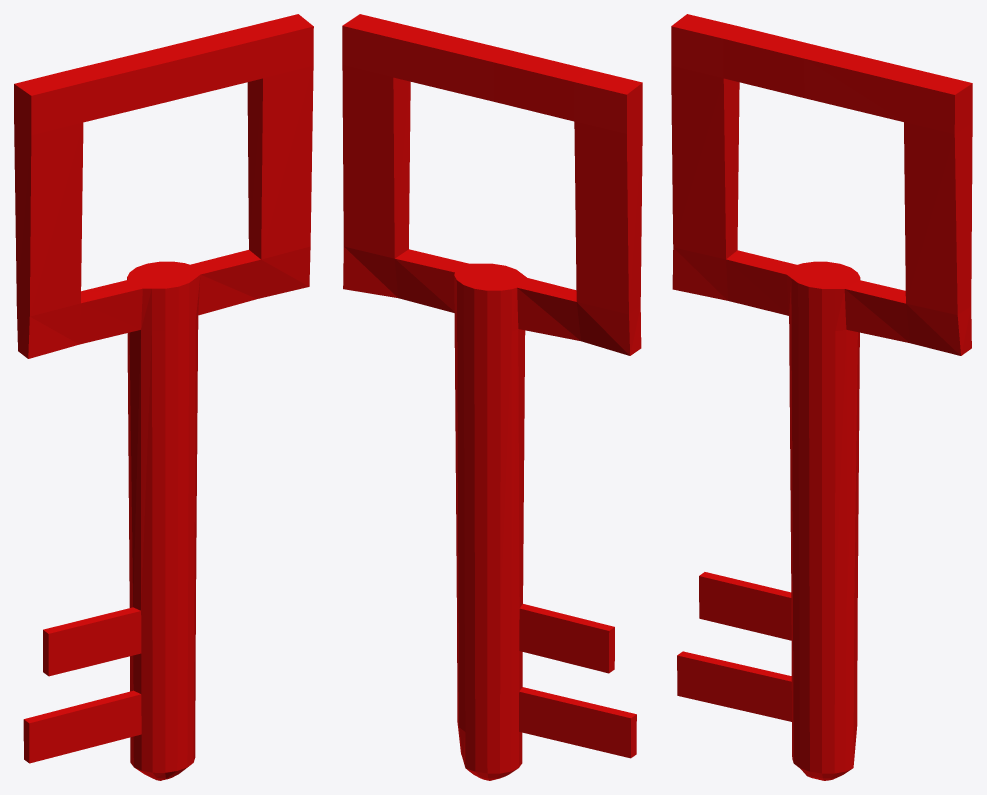
Rendered from SM_RectangleKey.fbx.
The picture shows the model from 3 angles, left to right: view 1: azimuth 30°, elevation 25°; view 2: azimuth 150°, elevation 25°; view 3: azimuth 330°, elevation 25°; orthographic projection.
Parts seen in each view (by area): view 1: SM_Rectangle_Key; view 2: SM_Rectangle_Key; view 3: SM_Rectangle_Key.
Boxes of the visible parts, x1,y1,x2,y2 form: SM_Rectangle_Key: (14, 14, 313, 780); SM_Rectangle_Key: (342, 14, 642, 780); SM_Rectangle_Key: (671, 14, 972, 780).
Bounding box in the file's own units: 181 × 442 × 34.73.
